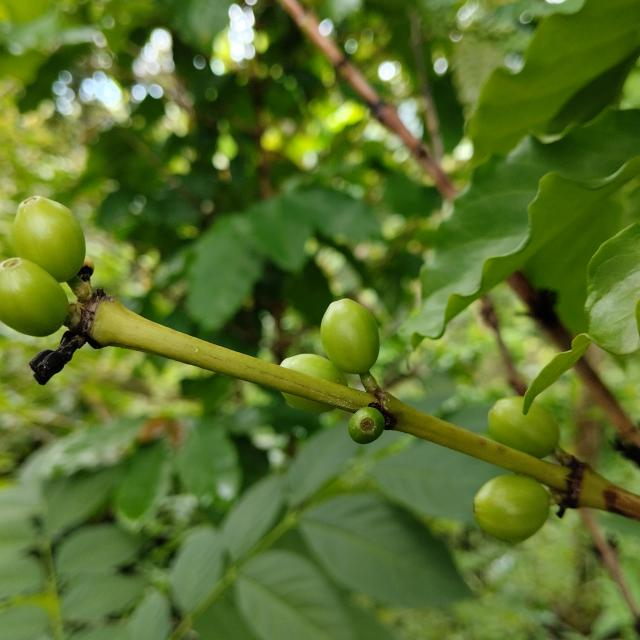green: (11, 195, 85, 282), (0, 257, 68, 337), (474, 476, 550, 543), (489, 397, 561, 459), (321, 299, 380, 374), (280, 354, 348, 386), (348, 407, 385, 445), (282, 393, 335, 413)
